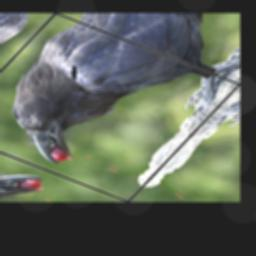Crow: (0, 19, 238, 195)
